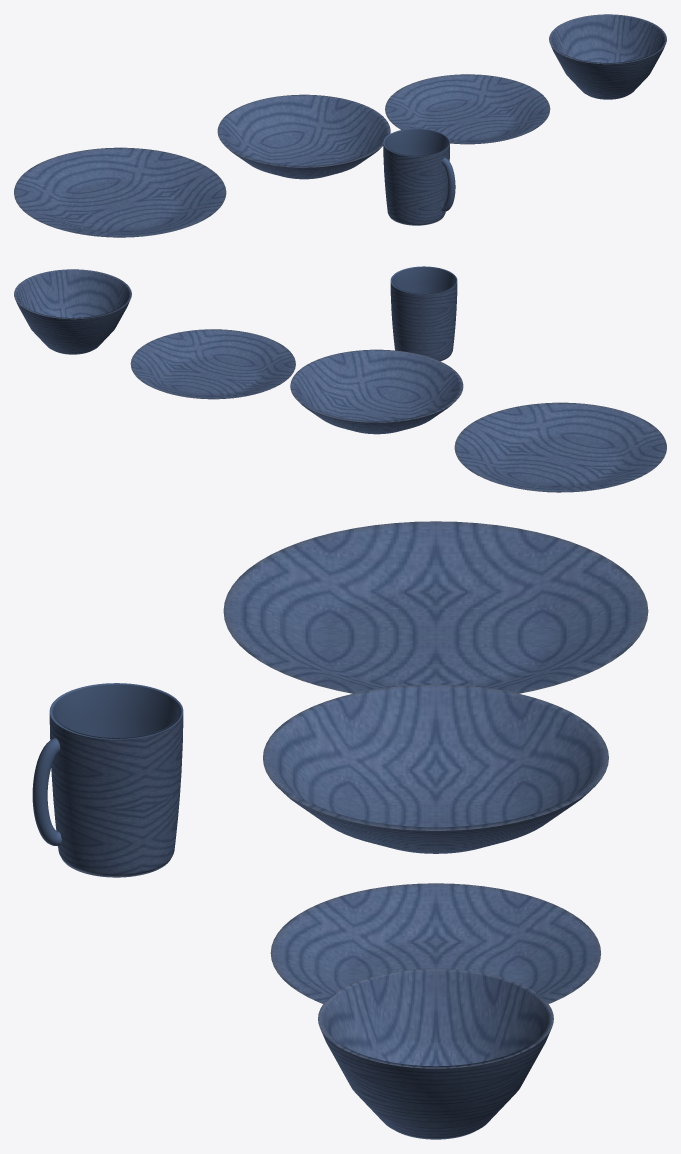
The picture shows the model from 3 angles, top to bottom: view 1: azimuth 30°, elevation 25°; view 2: azimuth 150°, elevation 25°; view 3: azimuth 270°, elevation 25°; orthographic projection. The views are drawn at different scales.
Bounding box in the file's own units: 0.926 × 0.1 × 0.3913.
11 materials, 9 textured.
